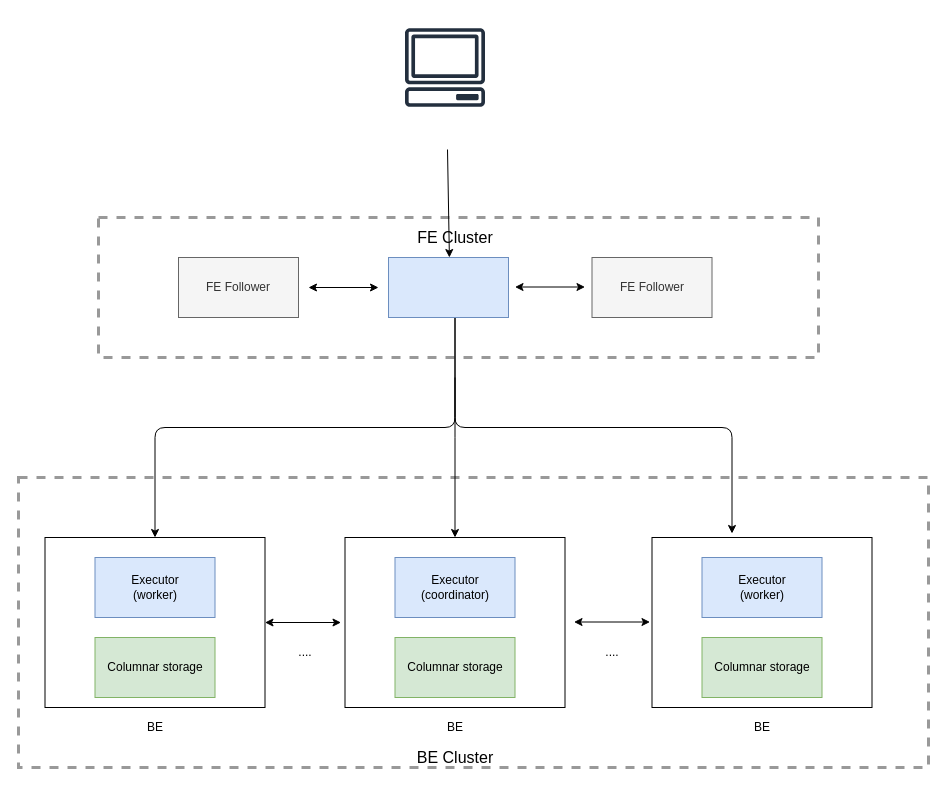
This 947x786 diagram has some shape labels left out. Here are the shapes that lost their labels. From the top down, the centre of each, then its label:
At (x=444, y=67): "Mysql Client".
At (x=448, y=287): "FE Leader".
